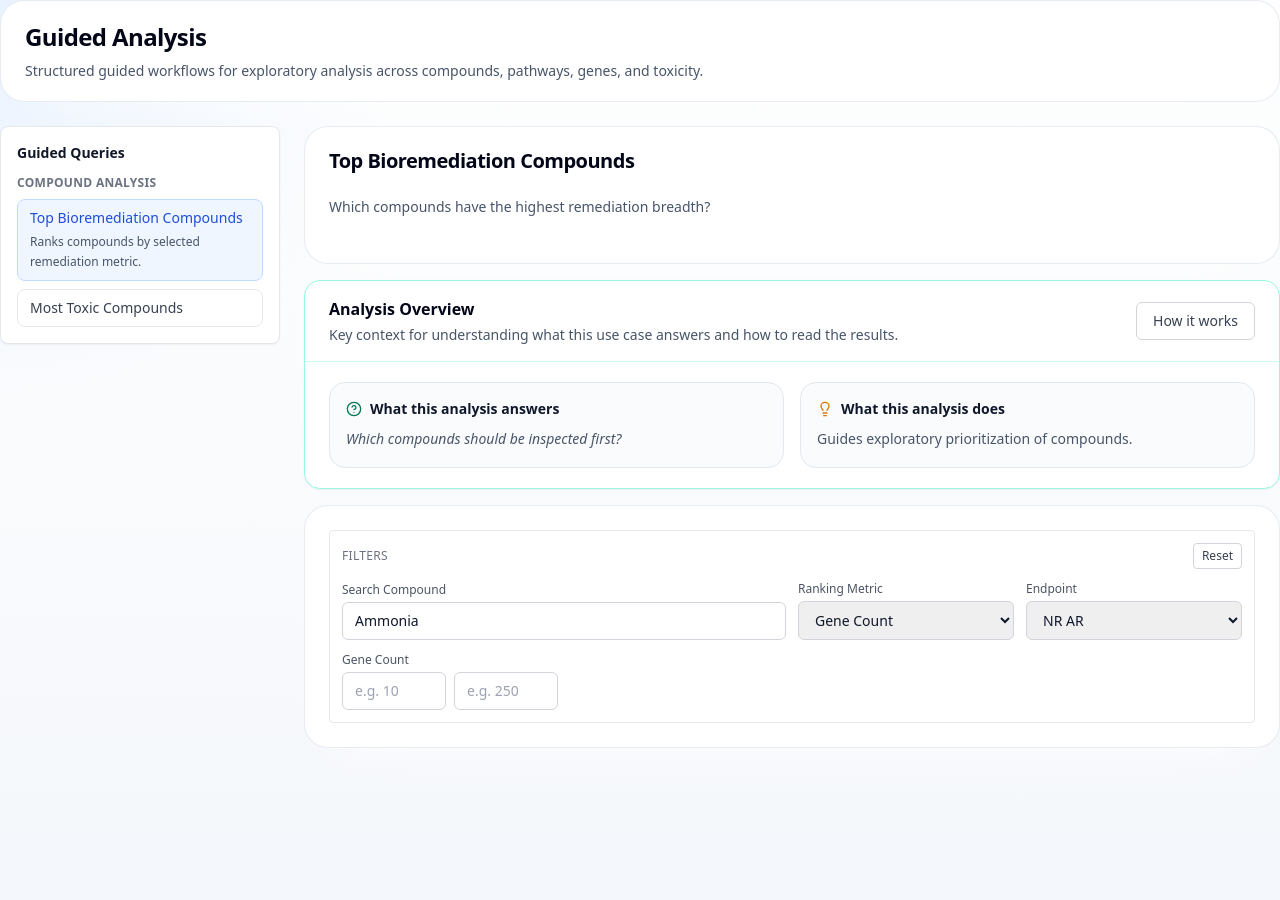
Test: GuidedAnalysisPage › sanitizes dependent options and restores defaults on reset
Replace the text in the field labelled "Search Compound" with "Acetaldehyde" at coordinates (564, 621), box [342, 602, 786, 640]
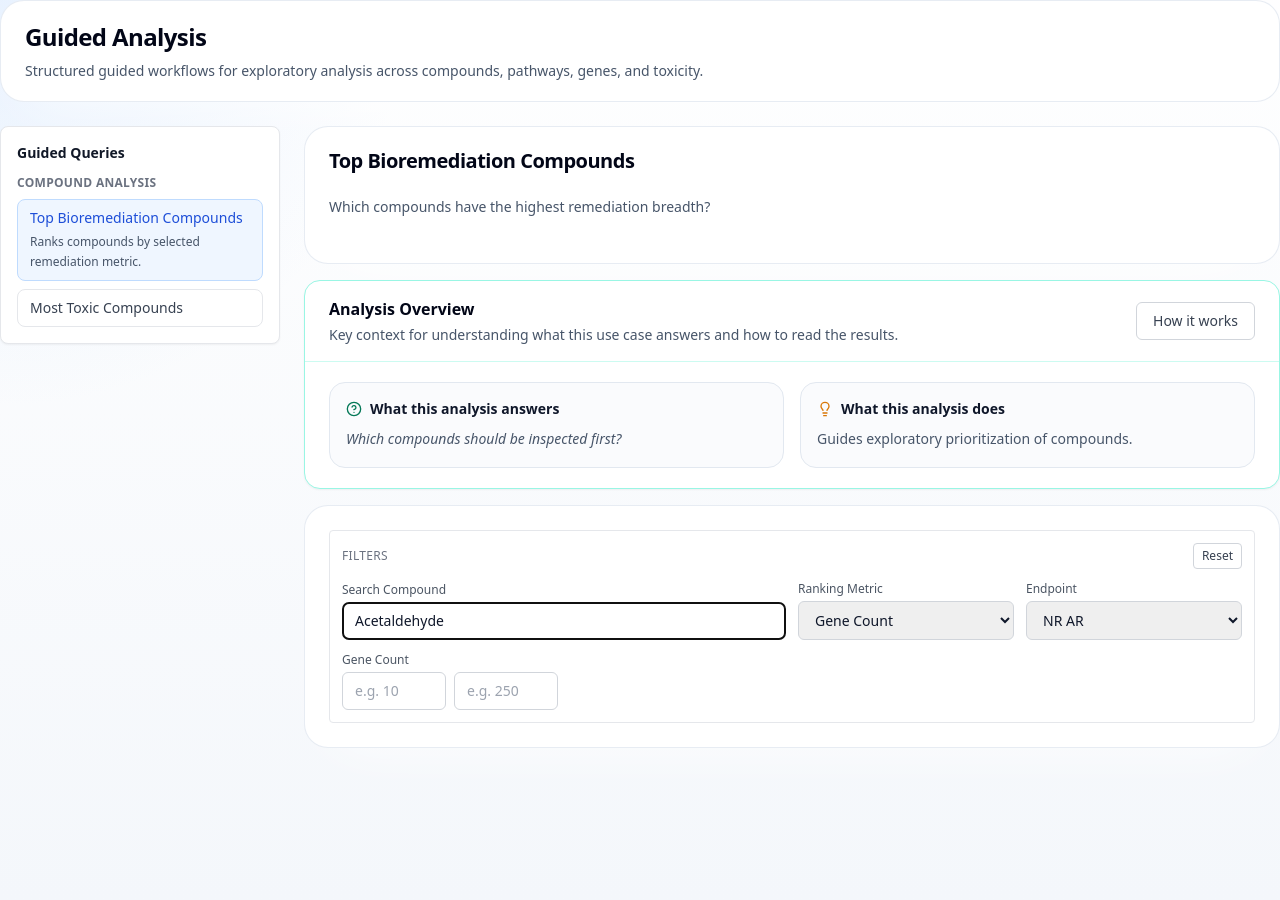
Select "Toxicity Mean" in the dropdown labelled "Ranking Metric" at coordinates (906, 620), box [798, 601, 1014, 640]
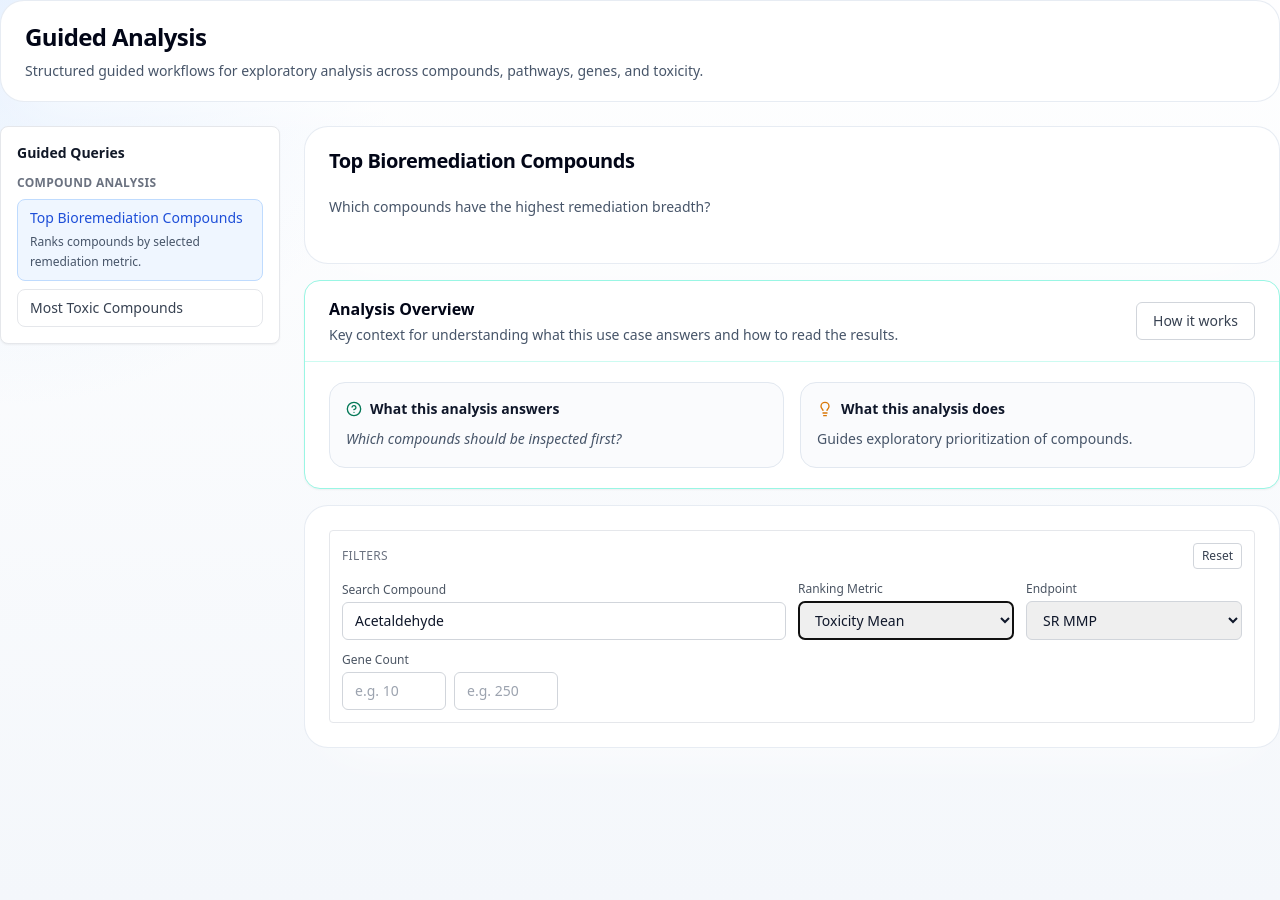
Now the dropdown labelled "Endpoint" shows "SR MMP", box [1026, 601, 1242, 640]
Click the button "Reset" at coordinates (1217, 556), box [1193, 543, 1242, 569]
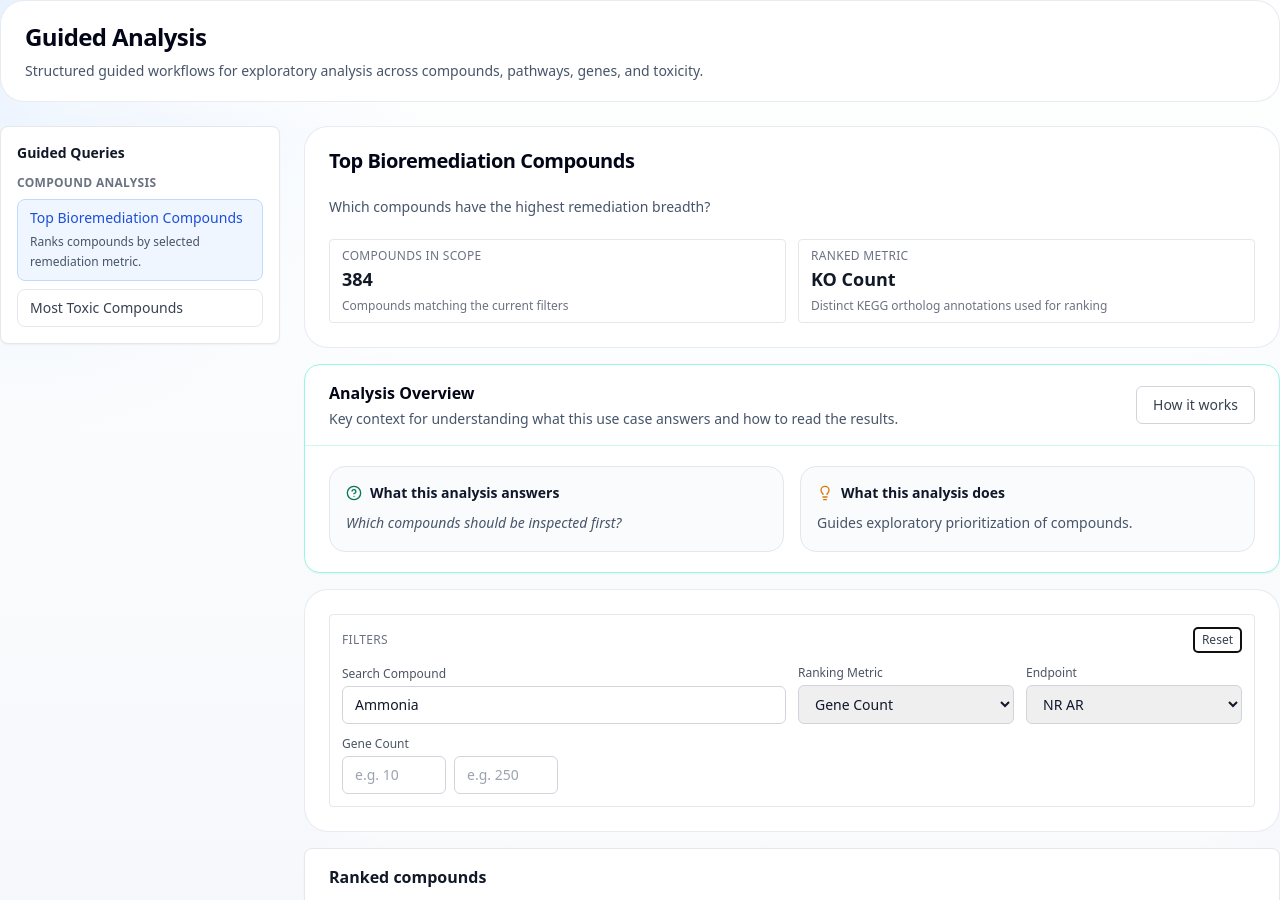
Now the field labelled "Search Compound" holds "Ammonia", box [342, 686, 786, 724]
Now the dropdown labelled "Endpoint" shows "NR AR", box [1026, 685, 1242, 724]
